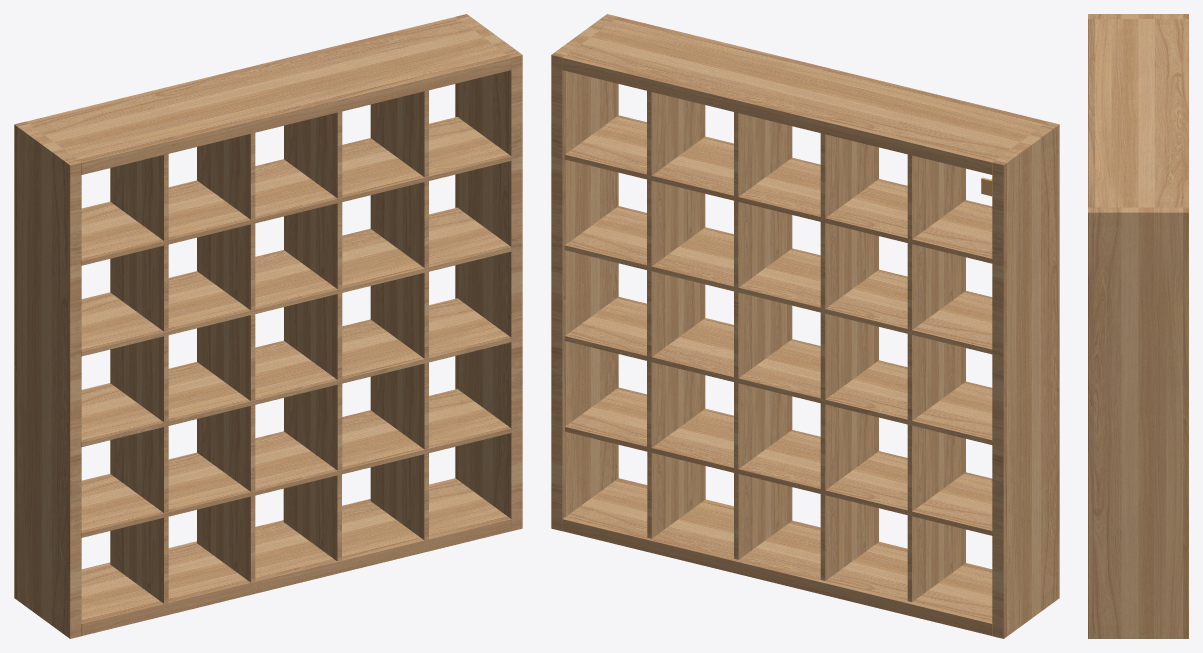
File: KALLAX_Whitened_Oak_effect_Shelf.obj
3 renders of one model, left to right at view 1: azimuth 30°, elevation 25°; view 2: azimuth 150°, elevation 25°; view 3: azimuth 270°, elevation 25°, orthographic. The views are drawn at different scales.
Parts seen in each view (by area): view 1: Generic_Models; view 2: Generic_Models; view 3: Generic_Models.
Part boxes in pixels (<box>): Generic_Models: <box>14,14,522,638</box>; Generic_Models: <box>551,14,1059,638</box>; Generic_Models: <box>1088,14,1188,638</box>.
Bounding box in the file's own units: 1820 × 1820 × 390.
